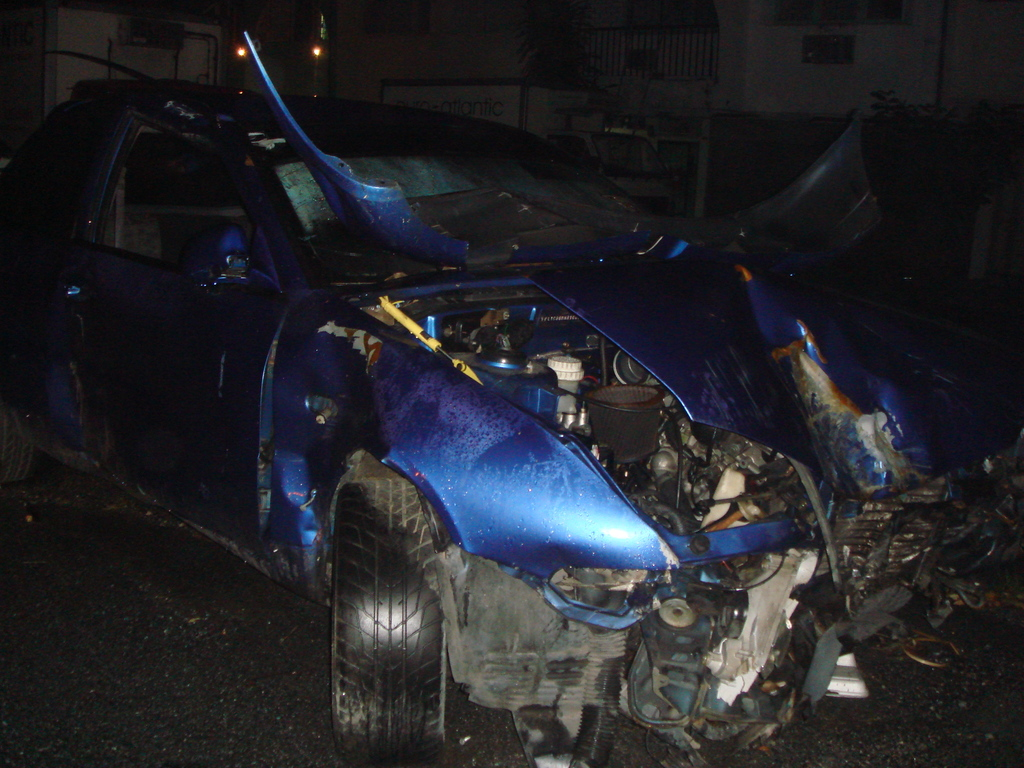Car: (41, 19, 920, 737)
